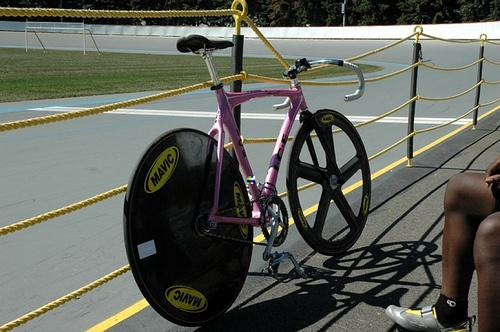car: (126, 34, 376, 327)
